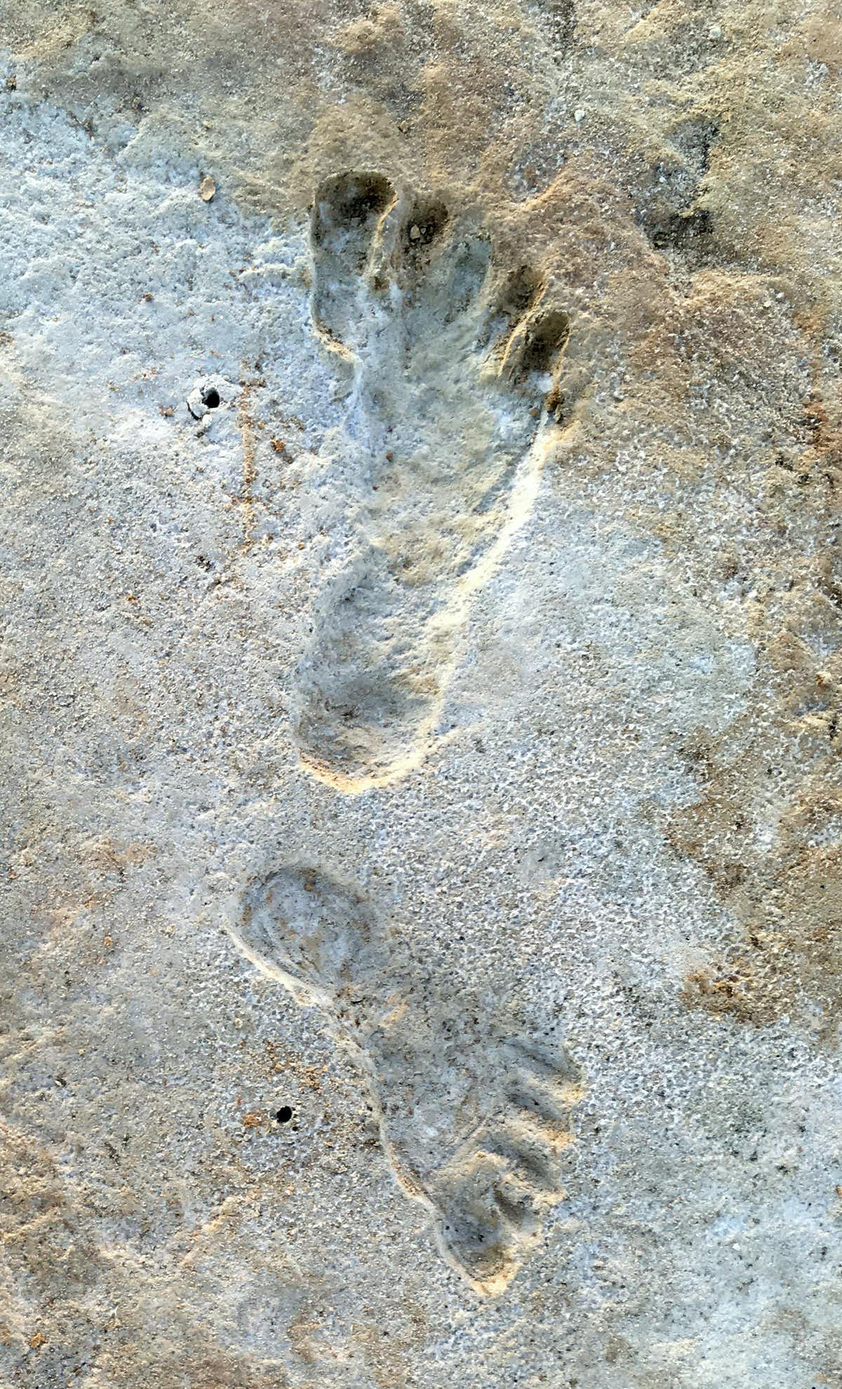human_footprint: (265, 134, 589, 796), (208, 843, 639, 1324)
